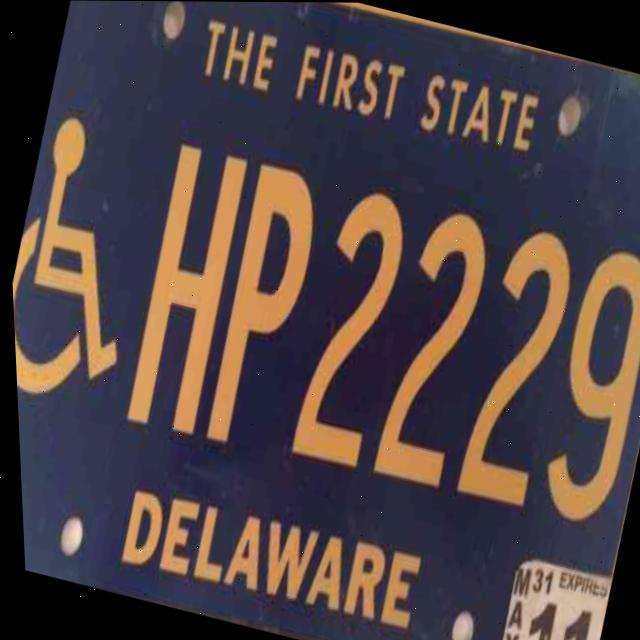symbol_of_access: (3, 93, 189, 434)
